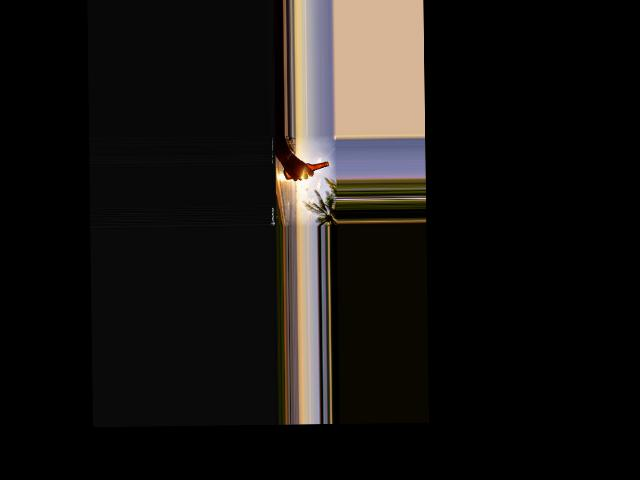beer: (282, 160, 328, 179)
